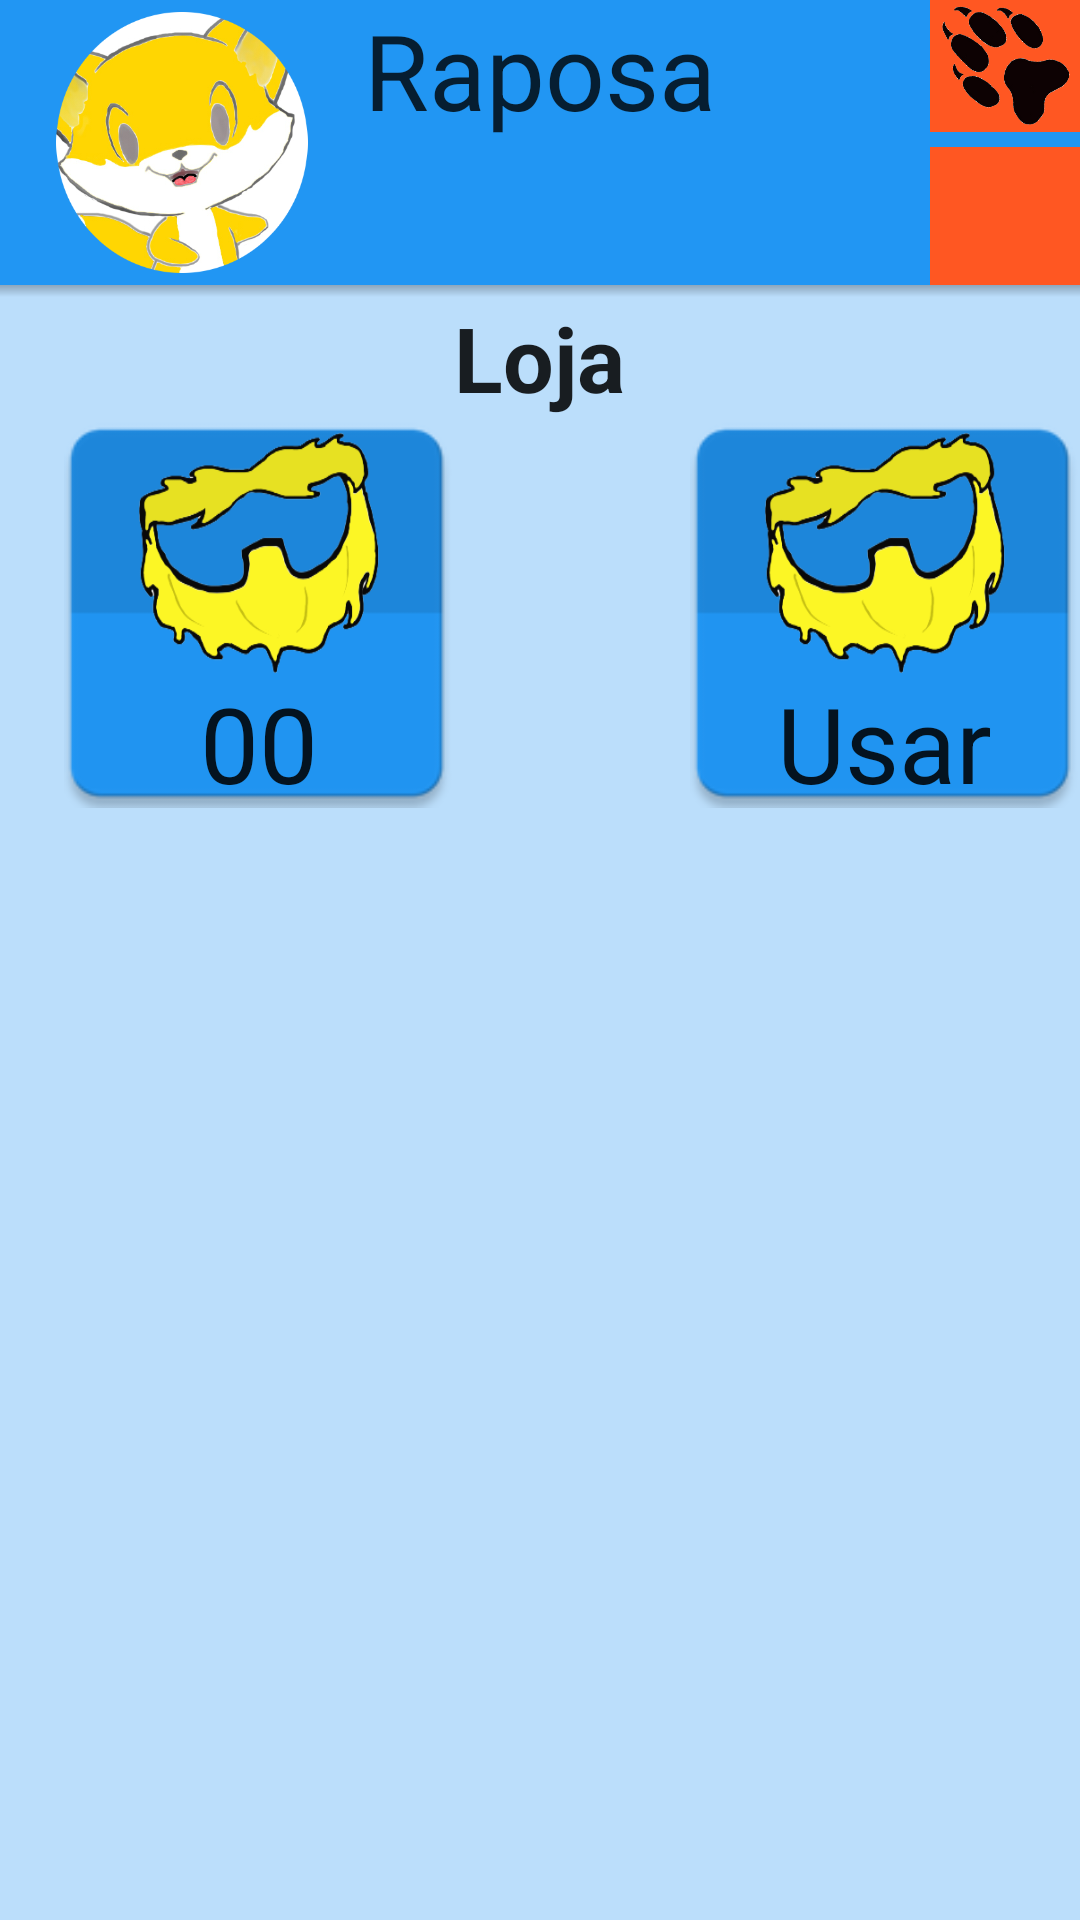

Icon click points for this 1080 x 1920 phone screenshot, format point (x, y):
foxpaw: point (1005, 66)
